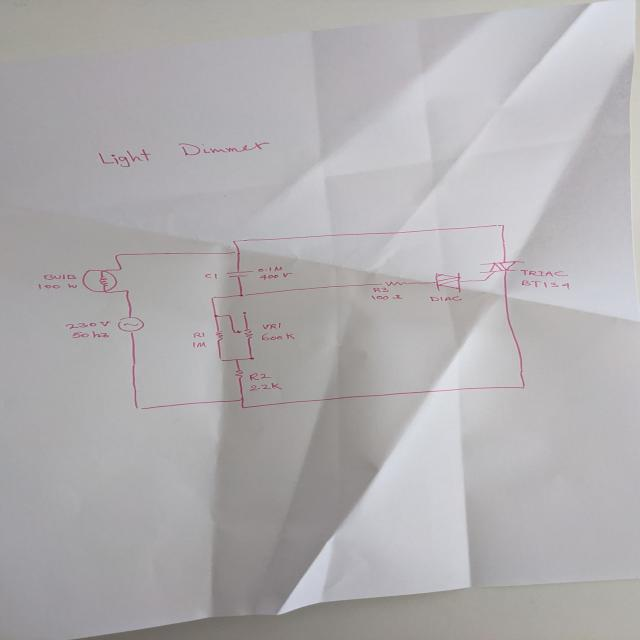capacitor: (224, 269, 254, 278)
junction: (112, 252, 122, 258), (493, 223, 505, 228), (518, 385, 528, 391), (133, 406, 145, 410), (238, 396, 247, 401), (237, 293, 247, 297), (217, 357, 225, 362), (232, 250, 242, 254), (211, 314, 220, 318), (247, 356, 256, 360), (209, 295, 217, 299), (233, 358, 241, 362), (239, 405, 247, 409), (123, 288, 131, 292), (117, 266, 125, 270), (226, 314, 233, 318), (230, 239, 237, 243), (481, 278, 488, 282), (241, 310, 247, 314)
resistor: (230, 328, 255, 340), (378, 280, 409, 286), (212, 329, 226, 342), (232, 368, 245, 379)
source: (116, 316, 146, 333)
text: (96, 141, 271, 168), (519, 279, 571, 290), (514, 269, 570, 277), (62, 320, 110, 329), (247, 382, 284, 392), (70, 330, 109, 339), (36, 282, 79, 290), (260, 332, 296, 341), (258, 272, 294, 280), (42, 273, 77, 280), (368, 293, 403, 300), (428, 295, 462, 302), (256, 265, 284, 272), (248, 372, 272, 380), (260, 322, 282, 330), (190, 341, 208, 348), (204, 272, 218, 280), (371, 286, 389, 292), (191, 331, 206, 338)
